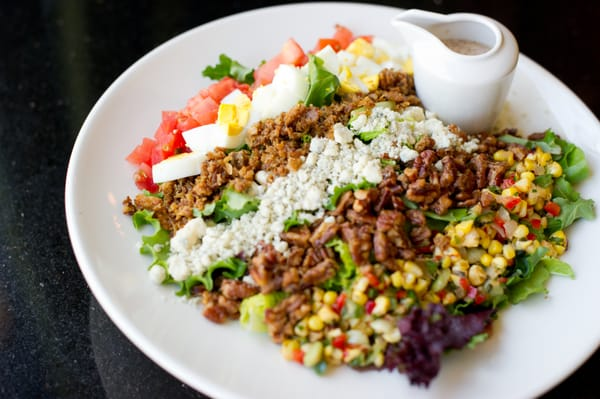curry: (211, 188, 263, 223)
sushi: (65, 11, 600, 394)
